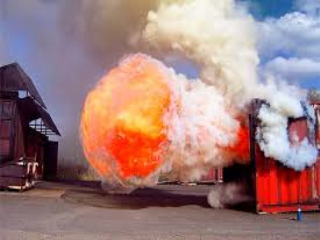smoke: (89, 60, 312, 181), (123, 5, 278, 72)
